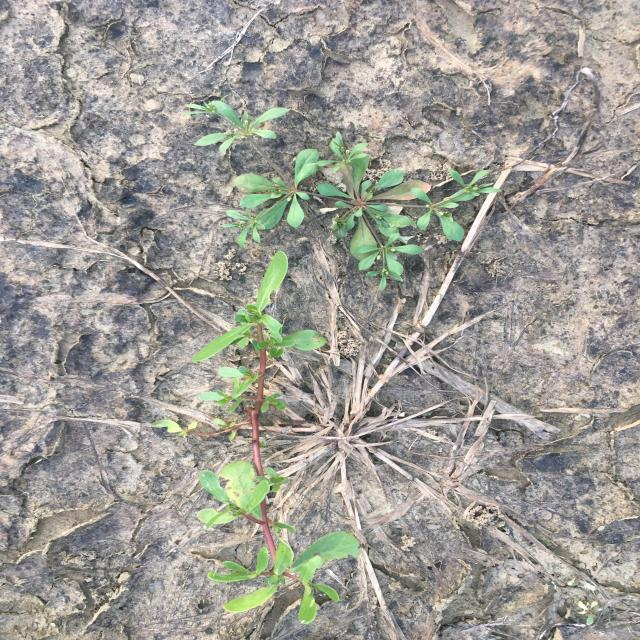Carpetweed: (180, 94, 504, 295)
Purslane: (150, 248, 362, 626)
